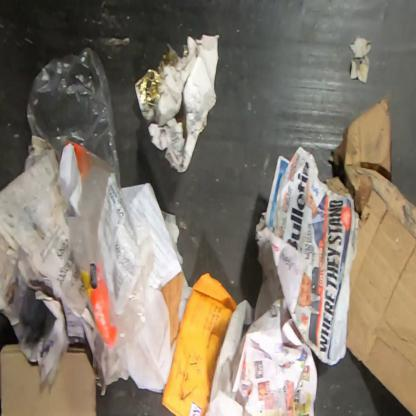cardboard: (325, 96, 415, 415), (0, 343, 98, 415)
soft_plastic: (27, 48, 155, 355)
